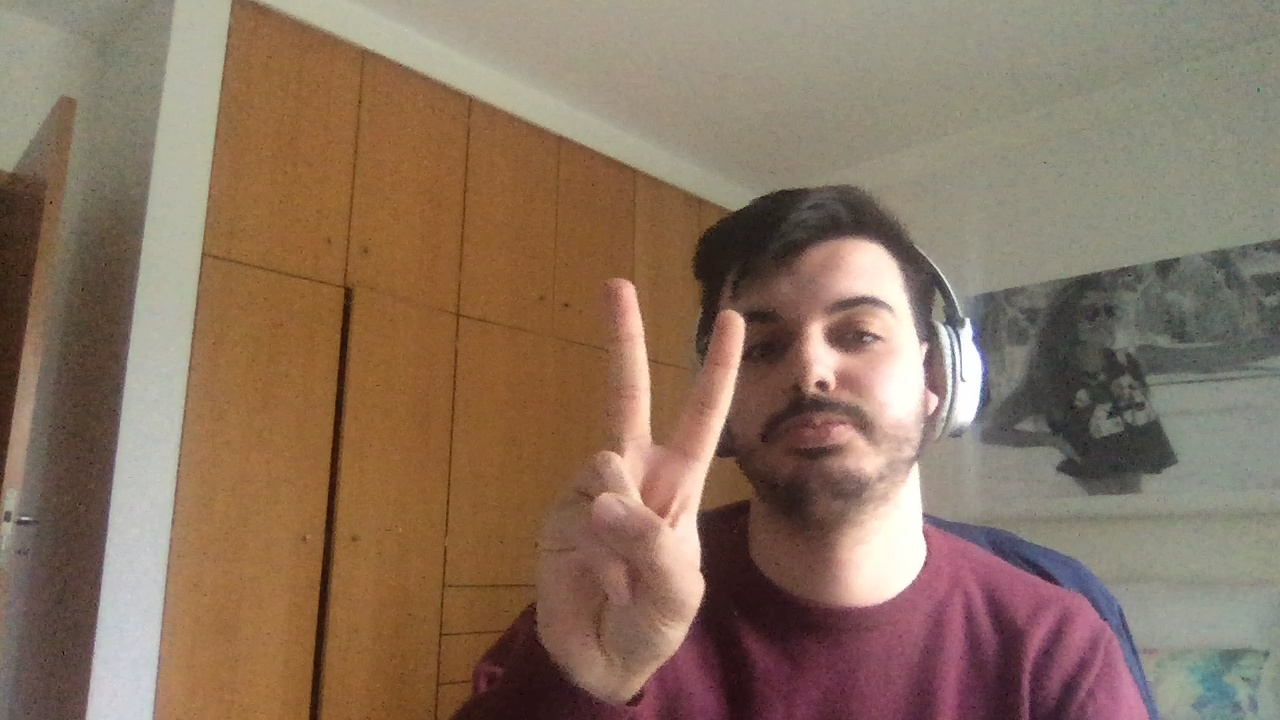Peace: (544, 279, 748, 626)
